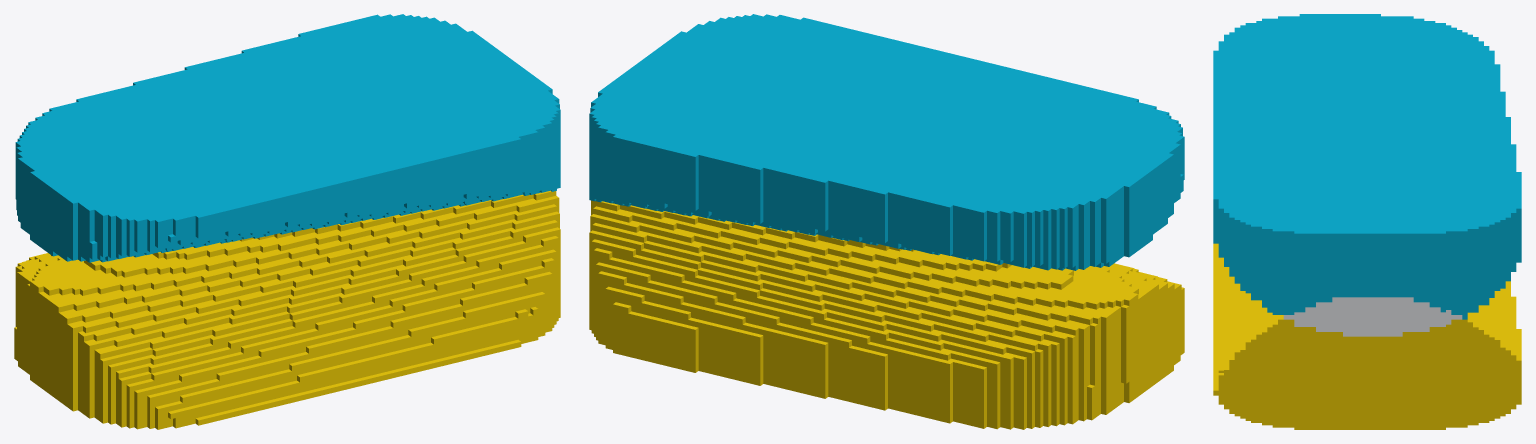
The picture shows the model from 3 angles, left to right: view 1: azimuth 30°, elevation 25°; view 2: azimuth 150°, elevation 25°; view 3: azimuth 270°, elevation 25°; orthographic projection. The views are drawn at different scales.
Visible parts, largest first — view 1: =>[0:1:1:586], =>[0:1:1:2333], =>[0:1:1:2671], =>[0:1:1:588], =>[0:1:1:587], =>[0:1:1:874], =>[0:1:1:875], =>[0:1:1:876], =>[0:1:1:589], =>[0:1:1:877], =>[0:1:1:2844], =>[0:1:1:590] (+46 smaller); view 2: =>[0:1:1:586], =>[0:1:1:2333], =>[0:1:1:2338], =>[0:1:1:2331], =>[0:1:1:588], =>[0:1:1:1165], =>[0:1:1:2558], =>[0:1:1:1174], =>[0:1:1:2719], =>[0:1:1:2065], =>[0:1:1:1242], =>[0:1:1:587] (+39 smaller); view 3: =>[0:1:1:586], =>[0:1:1:2437], =>[0:1:1:1161], =>[0:1:1:588], =>[0:1:1:587], =>[0:1:1:184], =>[0:1:1:2160], =>[0:1:1:2161], =>[0:1:1:589], =>[0:1:1:1567], =>[0:1:1:590], =>[0:1:1:592] (+61 smaller).
Boxes of the visible parts, box(x1,y1,x2,y2) form: =>[0:1:1:586]: box(50, 30, 520, 217); =>[0:1:1:2333]: box(30, 297, 72, 410); =>[0:1:1:2671]: box(195, 329, 518, 418); =>[0:1:1:588]: box(358, 14, 537, 136); =>[0:1:1:587]: box(35, 113, 195, 220); =>[0:1:1:874]: box(466, 139, 521, 198); =>[0:1:1:875]: box(407, 152, 466, 208); =>[0:1:1:876]: box(347, 167, 406, 217); =>[0:1:1:589]: box(26, 122, 172, 221); =>[0:1:1:877]: box(288, 181, 347, 226); =>[0:1:1:2844]: box(198, 342, 521, 425); =>[0:1:1:590]: box(381, 14, 544, 129); =>[0:1:1:586]: box(649, 17, 1138, 212); =>[0:1:1:2333]: box(1129, 284, 1173, 402); =>[0:1:1:2338]: box(888, 349, 949, 423); =>[0:1:1:2331]: box(613, 310, 695, 372); =>[0:1:1:588]: box(613, 15, 799, 141); =>[0:1:1:1165]: box(698, 155, 760, 223); =>[0:1:1:2558]: box(763, 330, 825, 398); =>[0:1:1:1174]: box(613, 137, 664, 208); =>[0:1:1:2719]: box(828, 343, 884, 410); =>[0:1:1:2065]: box(698, 322, 760, 385); =>[0:1:1:1242]: box(888, 192, 949, 255); =>[0:1:1:587]: box(990, 101, 1156, 213); =>[0:1:1:586]: box(1213, 50, 1494, 199); =>[0:1:1:2437]: box(1294, 336, 1445, 429); =>[0:1:1:1161]: box(1332, 233, 1413, 297); =>[0:1:1:588]: box(1218, 199, 1521, 208); =>[0:1:1:587]: box(1218, 41, 1483, 50); =>[0:1:1:184]: box(1343, 297, 1402, 336); =>[0:1:1:2160]: box(1272, 324, 1294, 427); =>[0:1:1:2161]: box(1446, 324, 1467, 427); =>[0:1:1:589]: box(1224, 34, 1472, 41); =>[0:1:1:1567]: box(1272, 231, 1294, 314); =>[0:1:1:590]: box(1224, 208, 1516, 212); =>[0:1:1:592]: box(1229, 213, 1510, 217).
Size of the model in its own units: 39.22 by 16.34 by 23.29.
